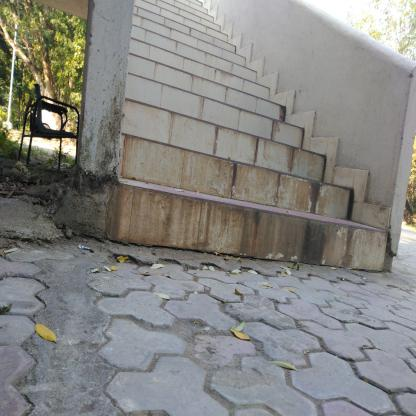stairs: (137, 105, 291, 277)
